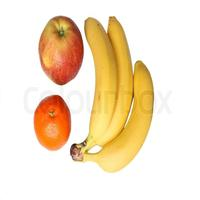apple: (34, 12, 87, 87)
banane: (84, 11, 157, 179)
orange: (30, 91, 80, 156)
